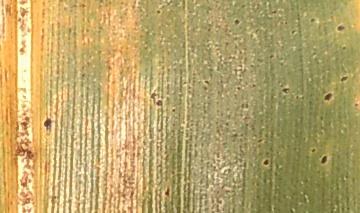tarspot: (150, 90, 165, 110), (41, 114, 54, 132), (322, 90, 334, 104), (338, 72, 350, 85), (260, 155, 271, 169), (335, 22, 347, 34), (281, 84, 291, 98), (319, 154, 330, 166), (162, 186, 172, 199), (231, 16, 242, 27), (154, 7, 165, 18)
